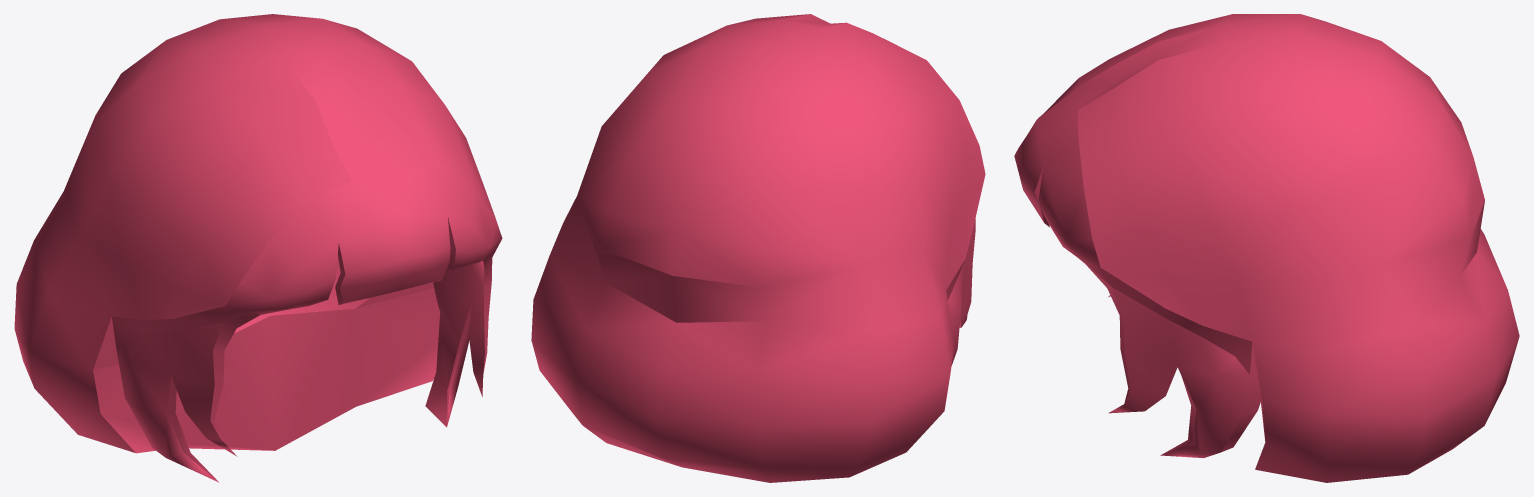
Rendered from Hair_1.FBX.
3 renders of one model, left to right at view 1: azimuth 30°, elevation 25°; view 2: azimuth 150°, elevation 25°; view 3: azimuth 270°, elevation 25°, orthographic. The views are drawn at different scales.
Parts seen in each view (by area): view 1: Hair_1; view 2: Hair_1; view 3: Hair_1.
Part boxes in pixels (x1,y1,x2,y2): Hair_1: [14, 14, 502, 482]; Hair_1: [531, 14, 985, 482]; Hair_1: [1014, 14, 1519, 482].
Size of the model in its own units: 0.2135 by 0.1953 by 0.2207.
